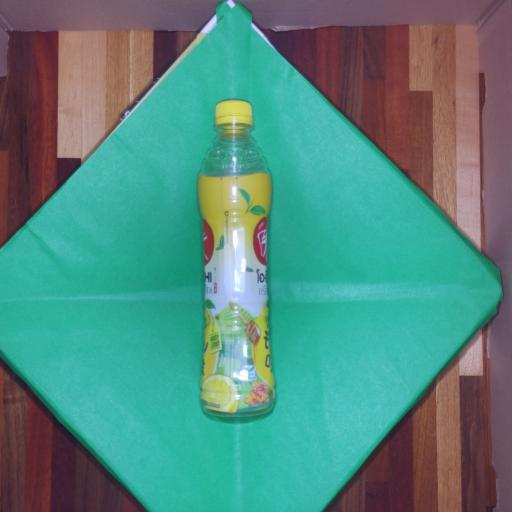bottle: (182, 91, 293, 434)
